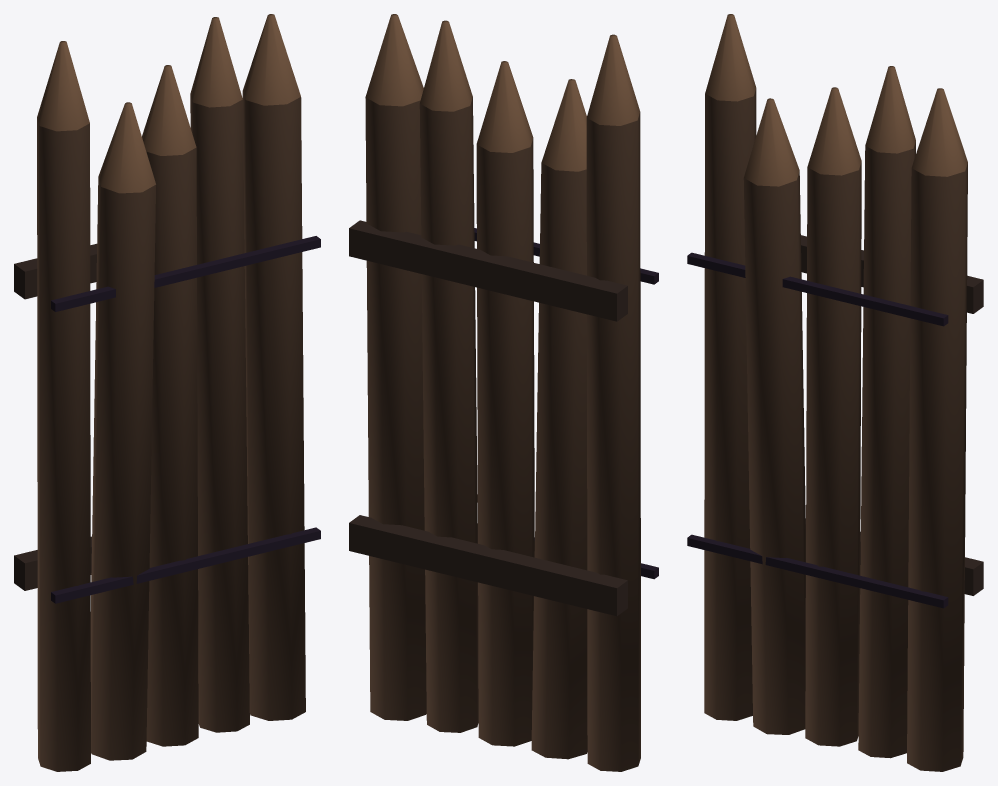
The model's file is kit_palisade.glb.
3 renders of one model, left to right at view 1: azimuth 30°, elevation 25°; view 2: azimuth 150°, elevation 25°; view 3: azimuth 330°, elevation 25°, orthographic. The views are drawn at different scales.
Visible parts, largest first — view 1: kit_palisade; view 2: kit_palisade; view 3: kit_palisade.
Part boxes in pixels (x1=…): kit_palisade: x1=14, y1=14, x2=320, y2=771; kit_palisade: x1=349, y1=14, x2=658, y2=771; kit_palisade: x1=687, y1=14, x2=983, y2=771.
Size of the model in its own units: 1 by 2.59 by 0.3164.
